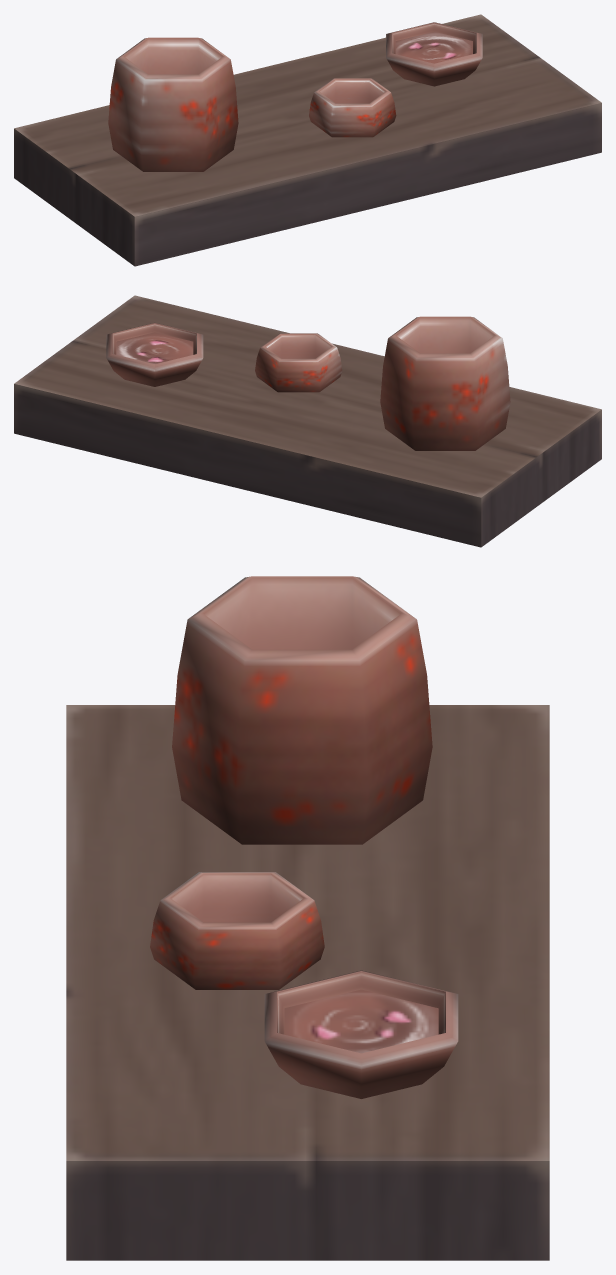
The picture shows the model from 3 angles, top to bottom: view 1: azimuth 30°, elevation 25°; view 2: azimuth 150°, elevation 25°; view 3: azimuth 270°, elevation 25°; orthographic projection. The views are drawn at different scales.
Visible parts, largest first — view 1: wq_wj001_02; view 2: wq_wj001_02; view 3: wq_wj001_02.
Part boxes in pixels (x1,y1,x2,y2): wq_wj001_02: [14, 14, 601, 266]; wq_wj001_02: [14, 295, 601, 547]; wq_wj001_02: [66, 576, 549, 1260].
Bounding box in the file's own units: 117 × 34.41 × 52.5.
1 material, 1 textured.
